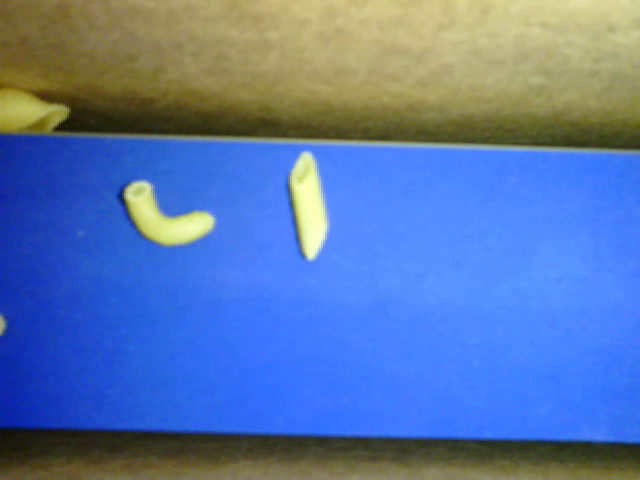elbow: (121, 179, 216, 249)
penne: (284, 146, 333, 262)
shell: (1, 90, 71, 132)
